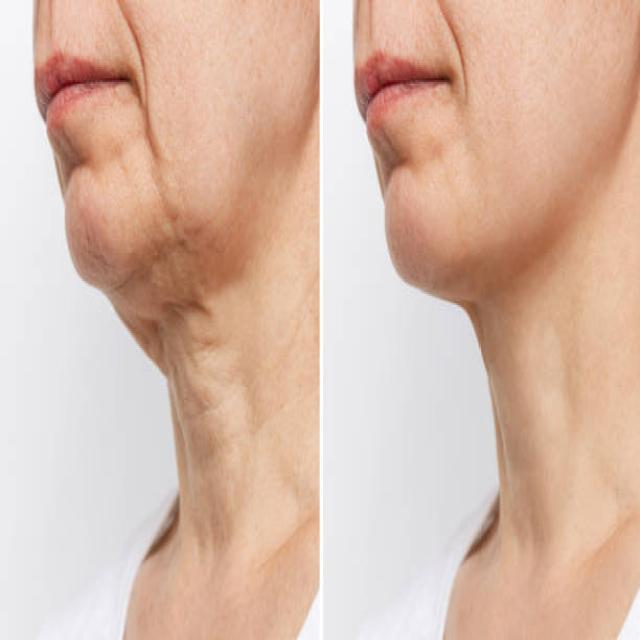Dry-Skin: (141, 0, 313, 260)
